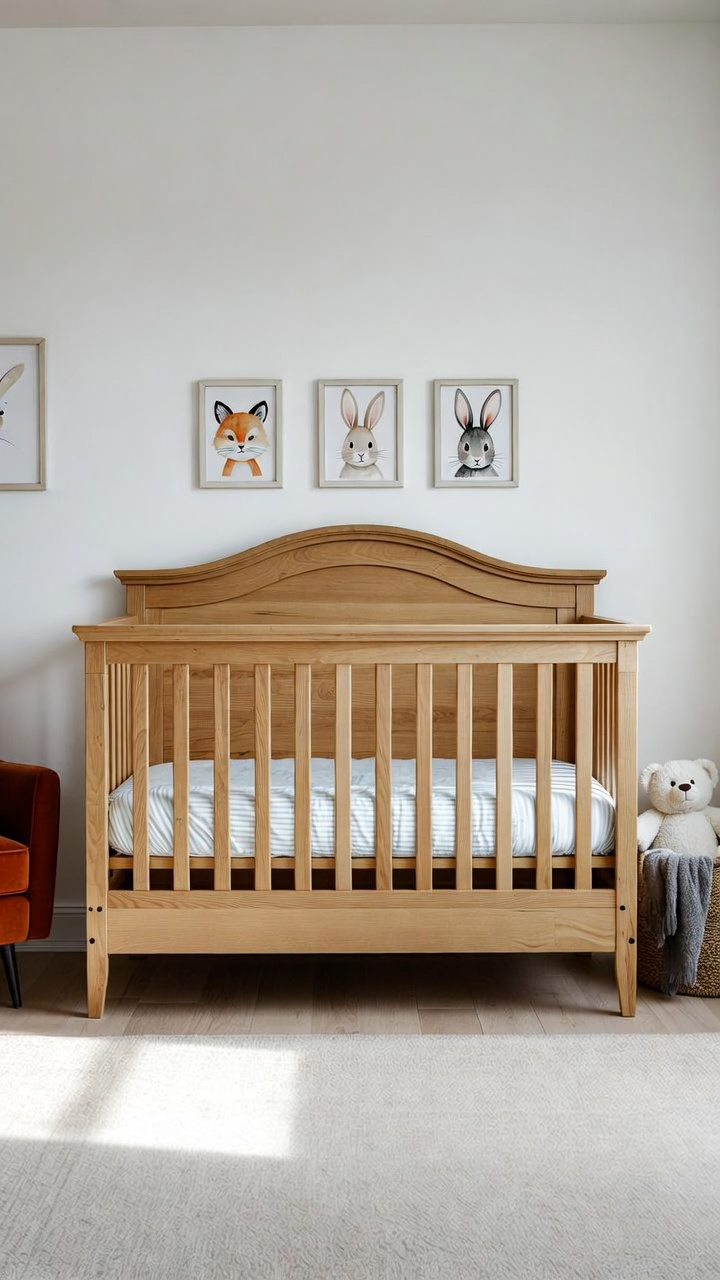crib: (72, 523, 648, 1018)
